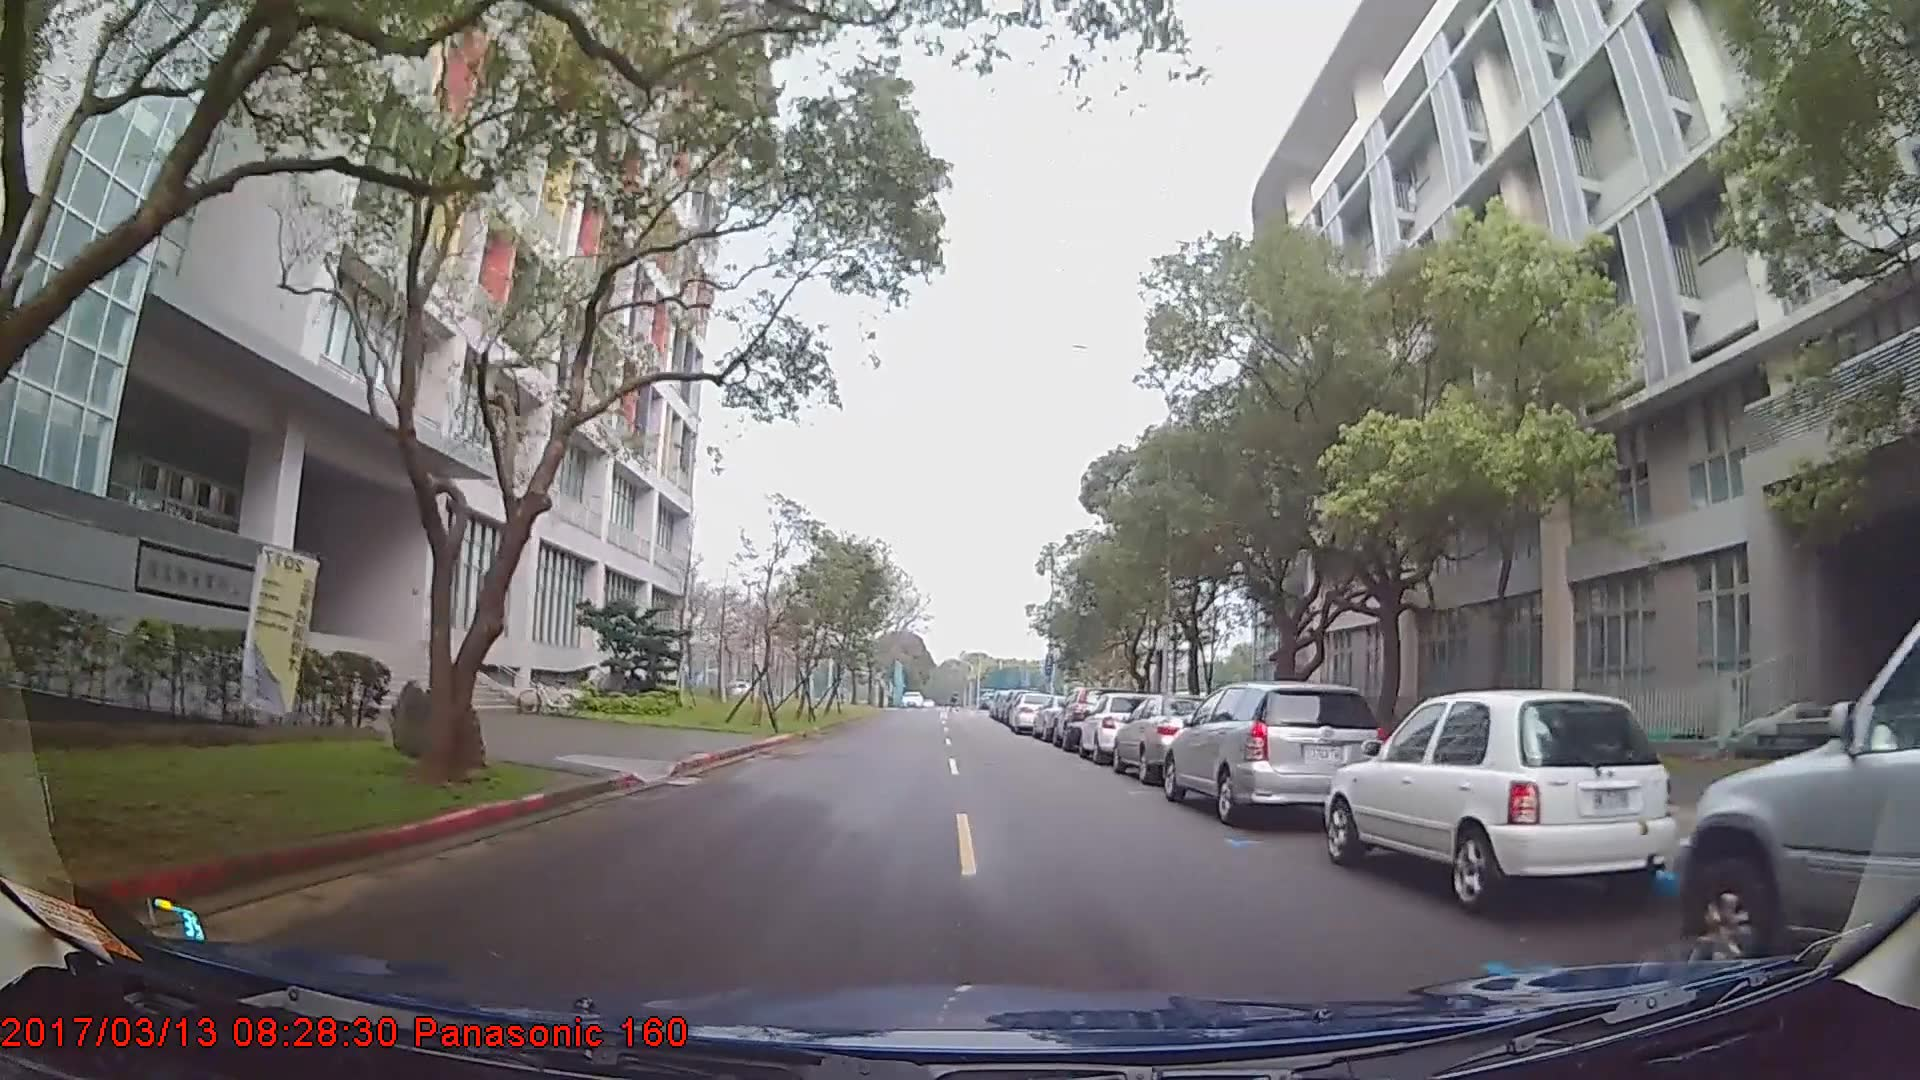vehicle: (1683, 616, 1919, 982), (1323, 687, 1676, 913), (1162, 680, 1386, 825), (1112, 691, 1236, 782), (1076, 691, 1156, 765), (1007, 688, 1060, 735)
